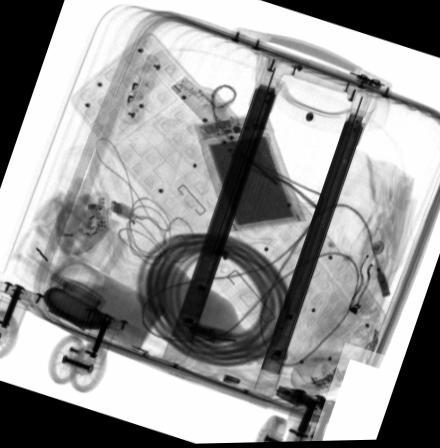Powerbank: (193, 117, 305, 232)
